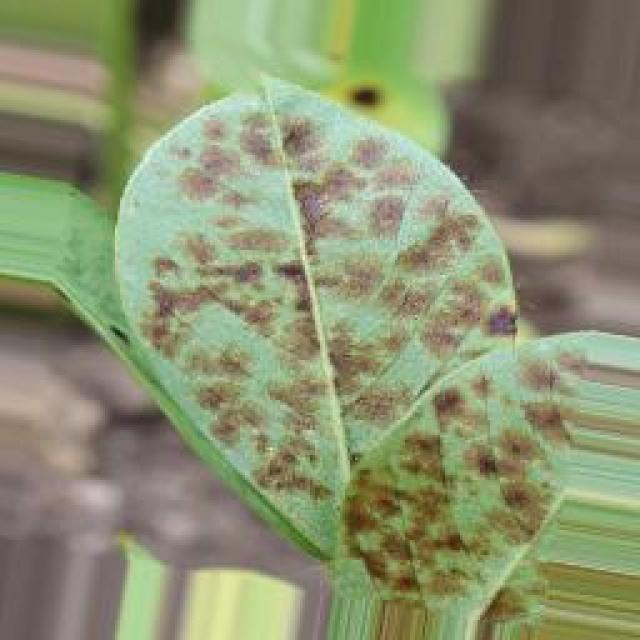Whitefly: (96, 82, 612, 563)
